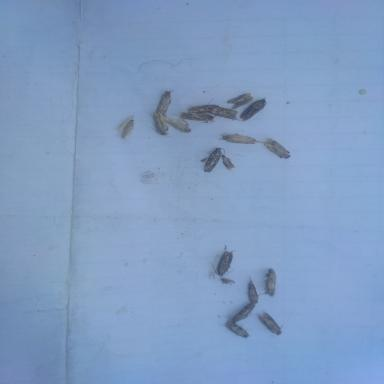pbw: (201, 98, 240, 120), (210, 248, 237, 276), (240, 97, 267, 121), (218, 131, 264, 145), (256, 312, 283, 335), (148, 112, 171, 138), (202, 147, 224, 173), (231, 300, 256, 322), (265, 138, 291, 159), (246, 275, 265, 303), (164, 114, 192, 133), (156, 90, 175, 114), (228, 92, 252, 110), (224, 321, 249, 338), (264, 268, 278, 296), (178, 112, 217, 122), (186, 103, 219, 114), (121, 118, 136, 138)
